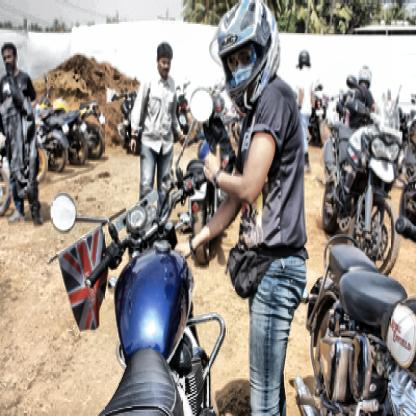not_wear: (0, 41, 18, 79), (153, 42, 169, 78)
wear: (215, 0, 277, 103)
